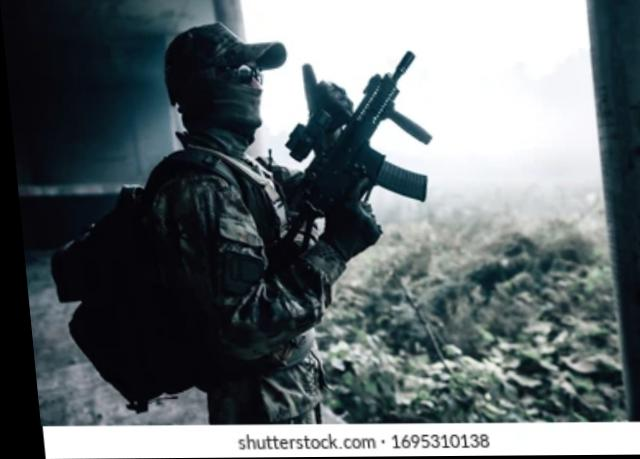other: (79, 31, 344, 422)
